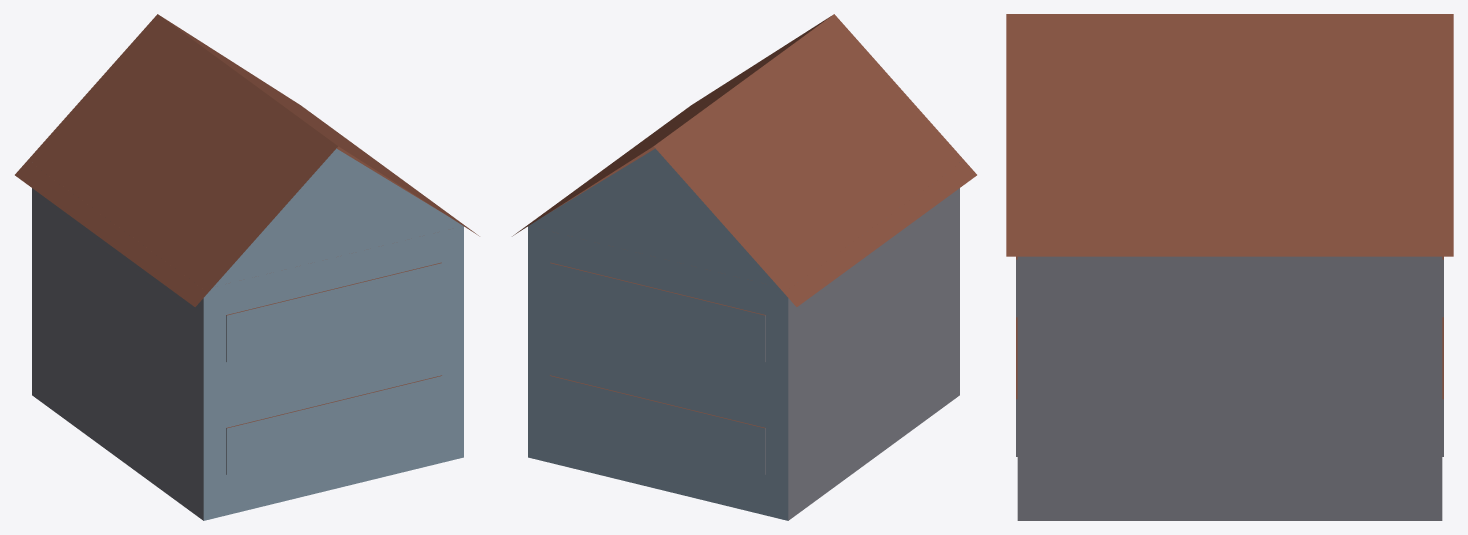
The model's file is cove-house-blue.far-facades-v3.lod2.glb.
The picture shows the model from 3 angles, left to right: view 1: azimuth 30°, elevation 25°; view 2: azimuth 150°, elevation 25°; view 3: azimuth 270°, elevation 25°; orthographic projection. The views are drawn at different scales.
Visible parts, largest first — view 1: cove-house-blue; view 2: cove-house-blue; view 3: cove-house-blue.
Part boxes in pixels (left/top/right/bottom): cove-house-blue: left=15, top=14, right=479, bottom=520; cove-house-blue: left=512, top=14, right=976, bottom=520; cove-house-blue: left=1006, top=14, right=1453, bottom=520.
Size of the model in its own units: 7.7 by 8.9 by 8.42.
